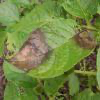Potato leaf early blight: (5, 18, 97, 79)
